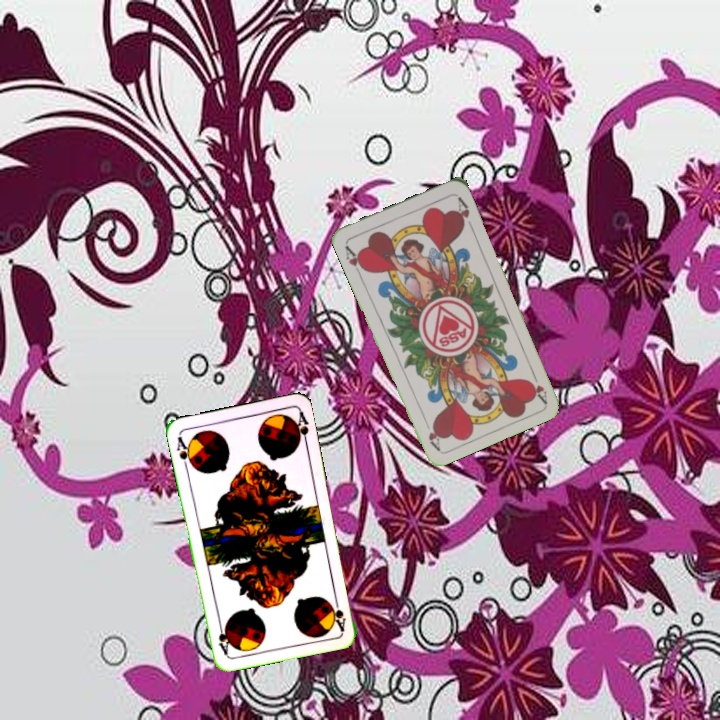HA: (341, 241, 369, 279), (526, 366, 550, 405)
SA: (172, 432, 196, 472), (327, 592, 348, 633)
